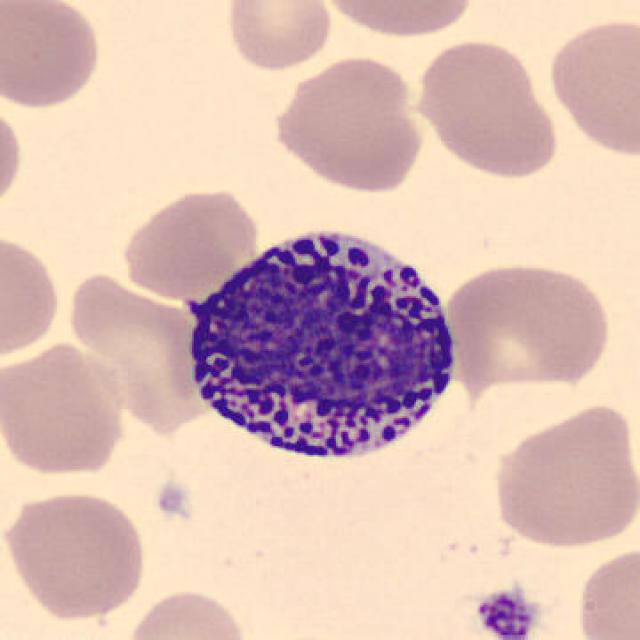Basophil: (175, 212, 470, 479)
Platelets: (471, 583, 540, 640), (148, 470, 198, 525)
RBC: (68, 271, 212, 434), (439, 258, 613, 392), (487, 398, 637, 552), (268, 51, 426, 196), (411, 35, 564, 182), (2, 487, 151, 624), (0, 336, 130, 479), (116, 183, 263, 300), (544, 11, 638, 160), (0, 0, 105, 111), (0, 228, 64, 364), (220, 0, 336, 74), (121, 585, 254, 640), (313, 0, 482, 41), (572, 541, 638, 640), (0, 95, 25, 219)
